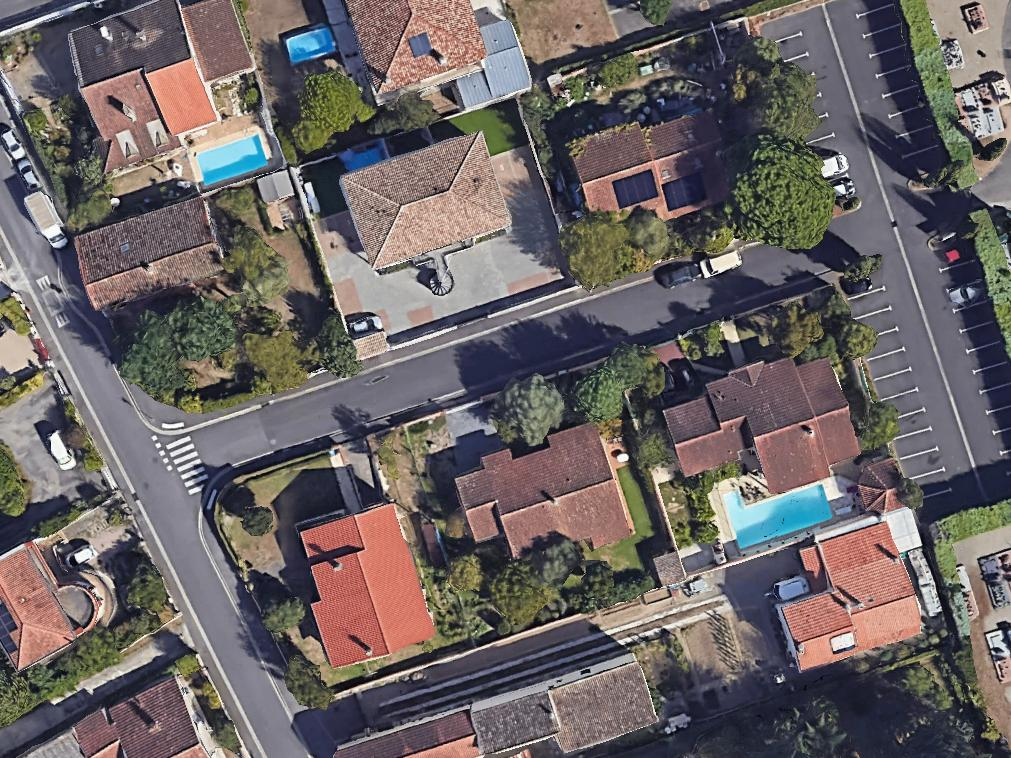maison: (656, 338, 868, 521), (57, 0, 273, 177), (448, 417, 636, 586), (288, 495, 437, 674), (759, 516, 927, 673), (338, 130, 510, 271), (465, 653, 659, 758), (566, 110, 732, 231), (68, 194, 228, 314), (341, 0, 491, 104), (0, 538, 87, 677), (70, 678, 206, 758), (334, 711, 478, 757)
